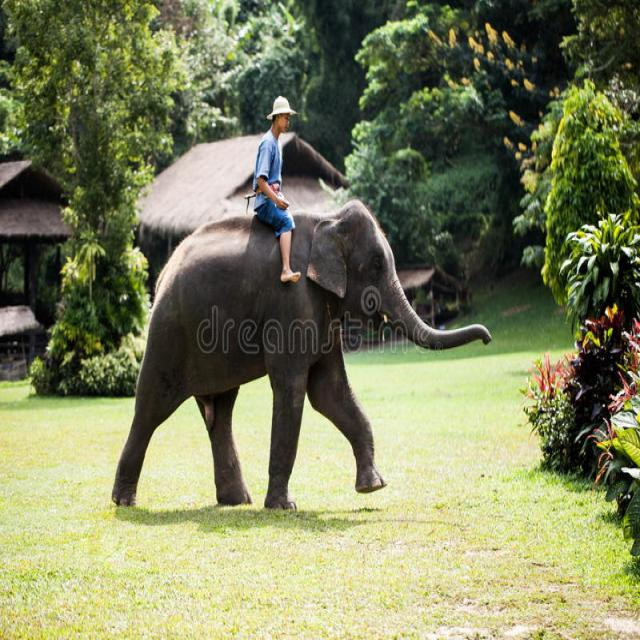Elephant: (111, 214, 513, 568)
